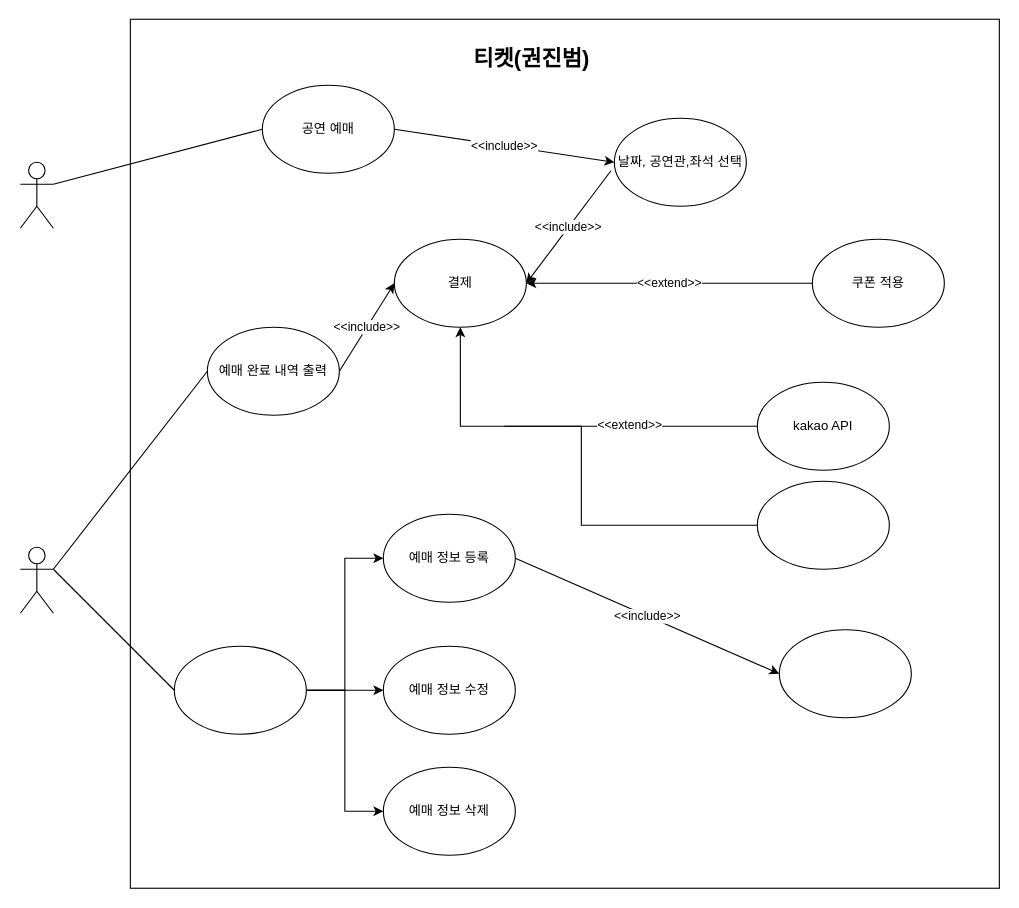
Some shapes in this 1019 by 908 pixel diagram are drawn without their labels. Here are the shapes that lost their labels. From the top down, the centre of each, then its label:
At point (36, 194): "사용자".
At point (822, 524): "Import API".
At point (36, 579): "관리자".
At point (239, 689): "예매 정보 관리".
At point (844, 673): "공연기간, 공연관, 상영 시간, 좌석 수".
